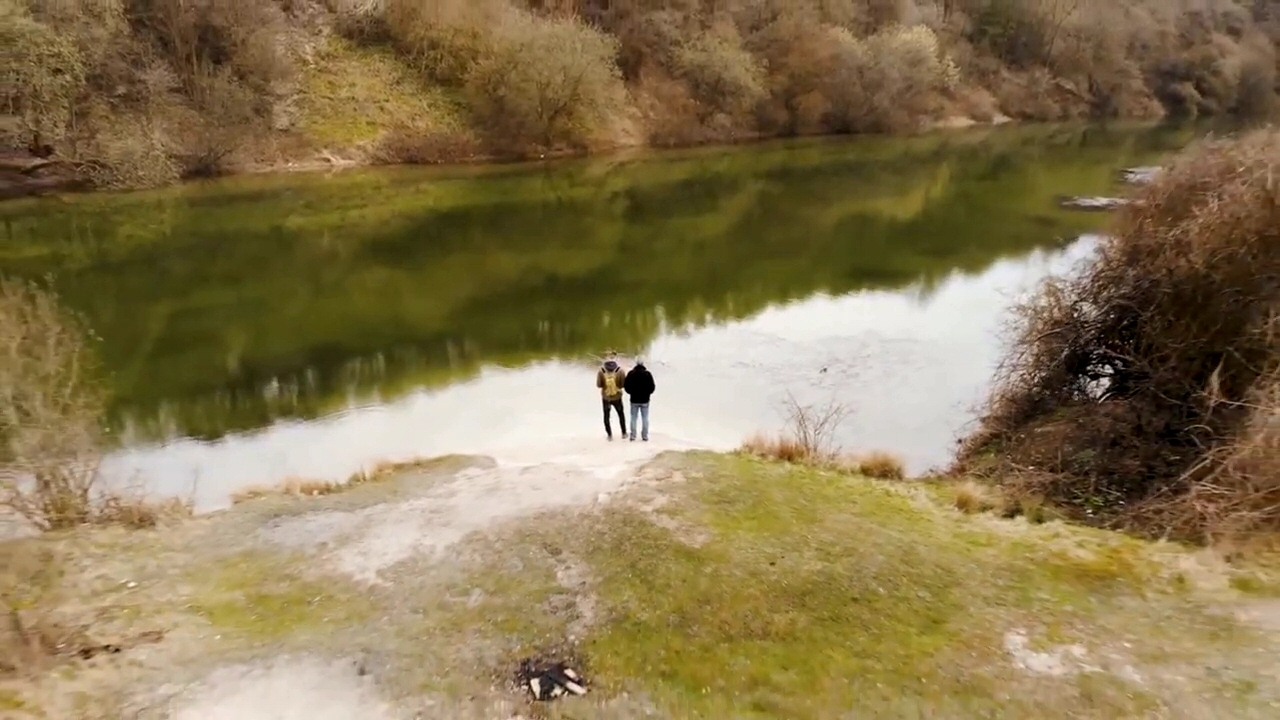insan: (594, 355, 625, 442), (625, 352, 654, 442)
